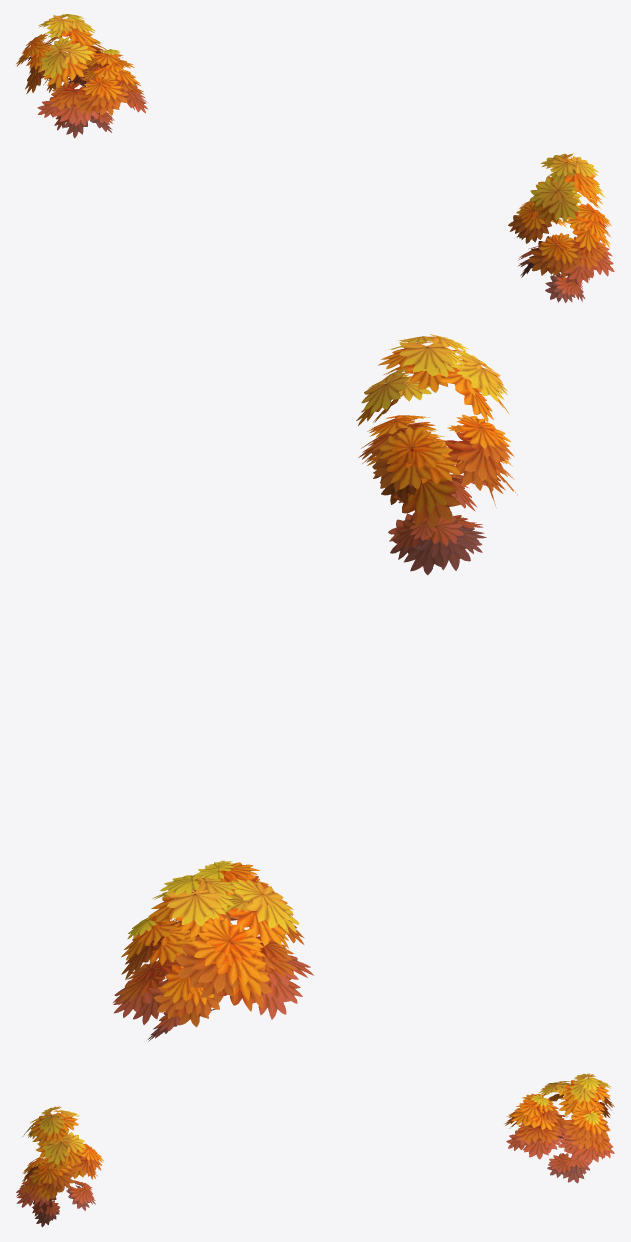
Rendered from circles-island-leaves.glb.
3 views of the same model, one above another, from view 1: azimuth 30°, elevation 25°; view 2: azimuth 150°, elevation 25°; view 3: azimuth 270°, elevation 25° (orthographic). The views are drawn at different scales.
Parts seen in each view (by area): view 1: island_leaves; view 2: island_leaves; view 3: island_leaves.
Part boxes in pixels (x1=…): island_leaves: x1=16, y1=14, x2=614, y2=302; island_leaves: x1=113, y1=334, x2=517, y2=1041; island_leaves: x1=16, y1=1073, x2=614, y2=1227.
Bounding box in the file's own units: 8.67 × 4.97 × 20.43.
1 material, 1 textured.
